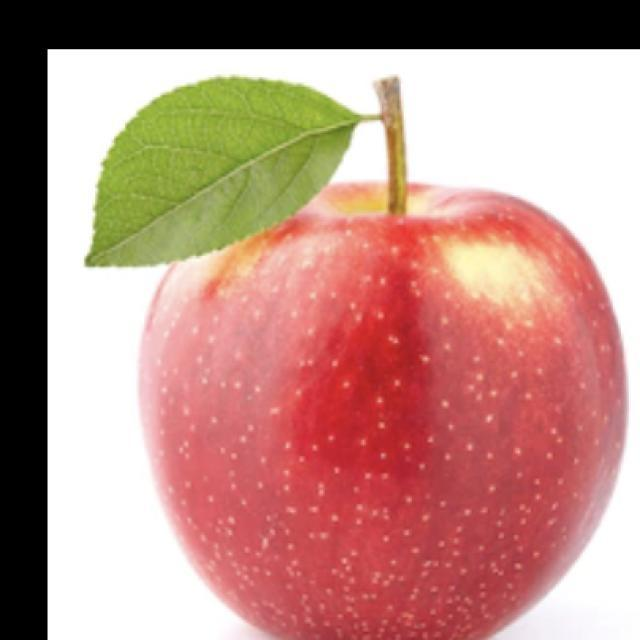Fresh Apple: (166, 191, 640, 640)
